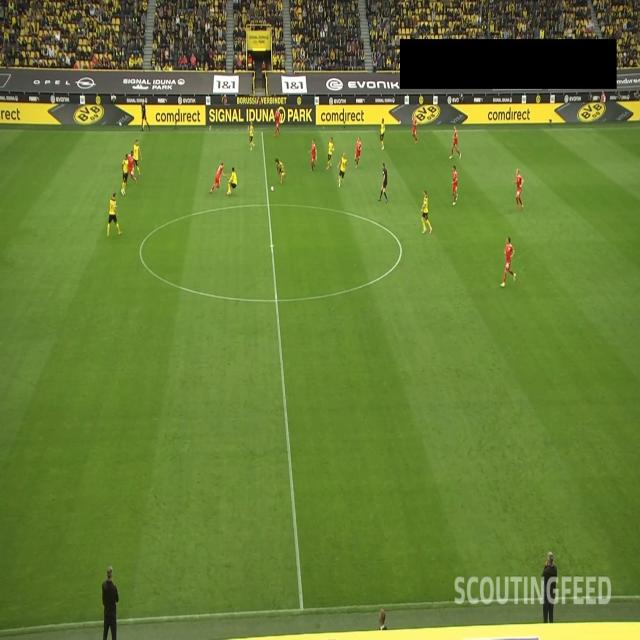ball: (270, 185, 274, 193)
